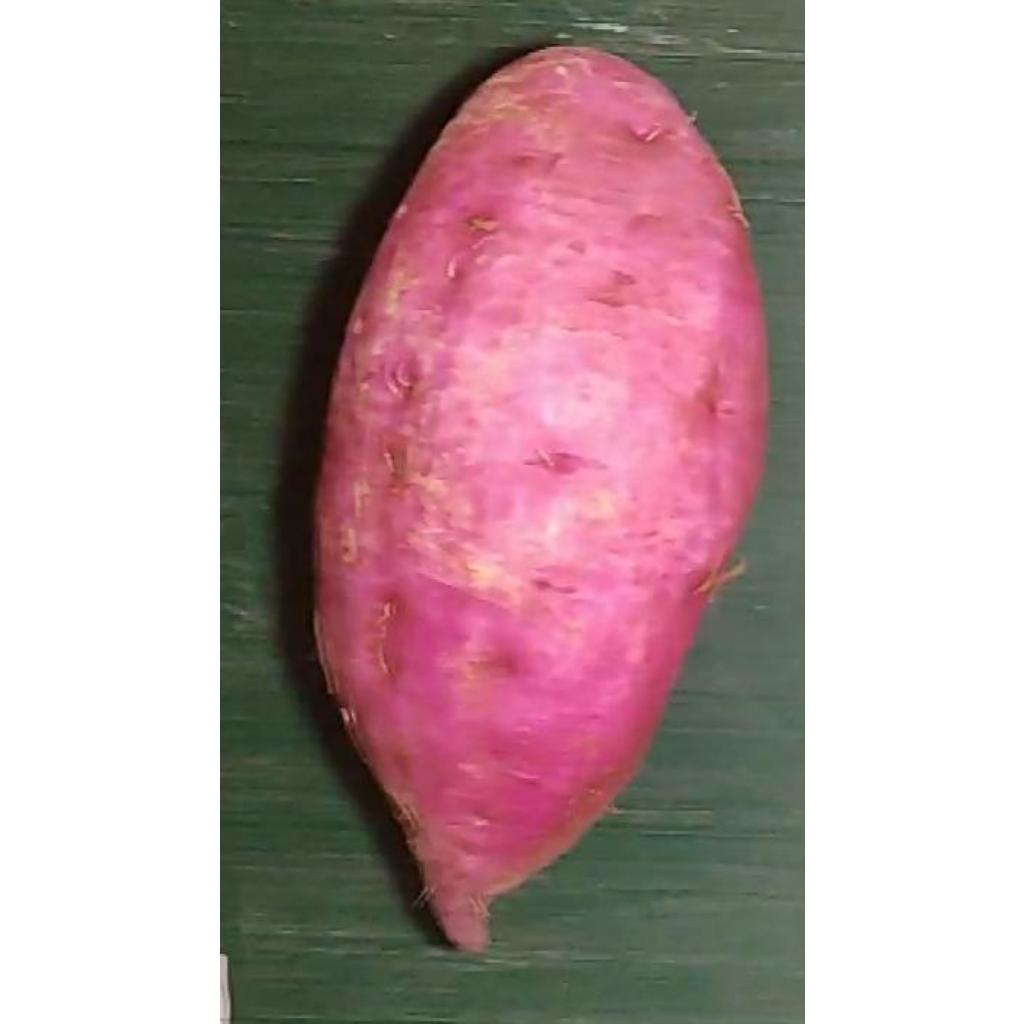Sweet Potato: (313, 44, 768, 957)
